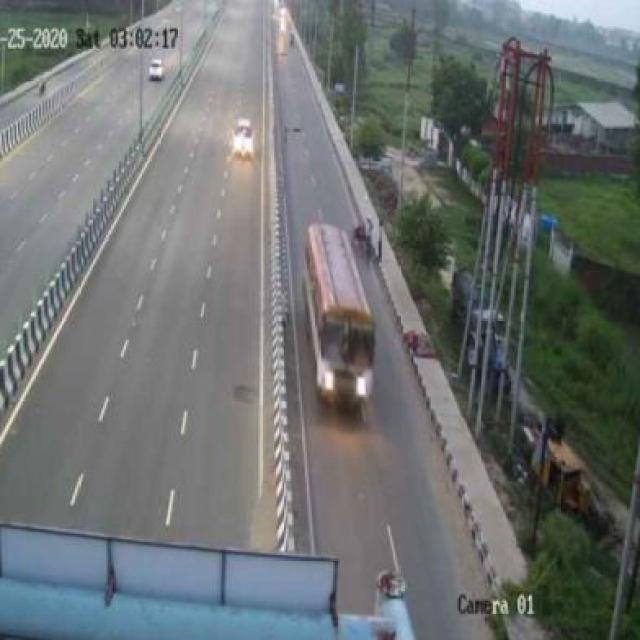car: (229, 112, 261, 162)
